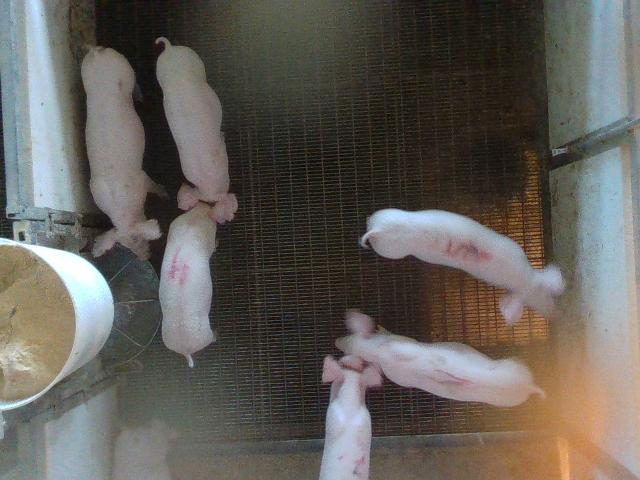pig-1: (336, 311, 545, 406)
pig-3: (360, 209, 565, 324)
pig-4: (159, 184, 238, 367)
